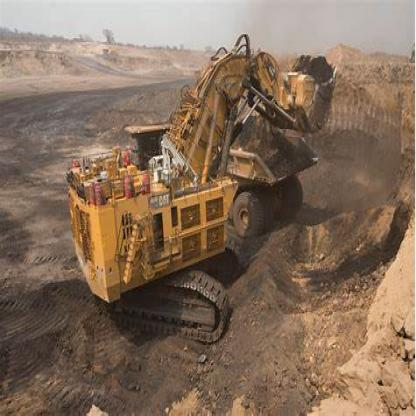excavator: (64, 38, 344, 350)
